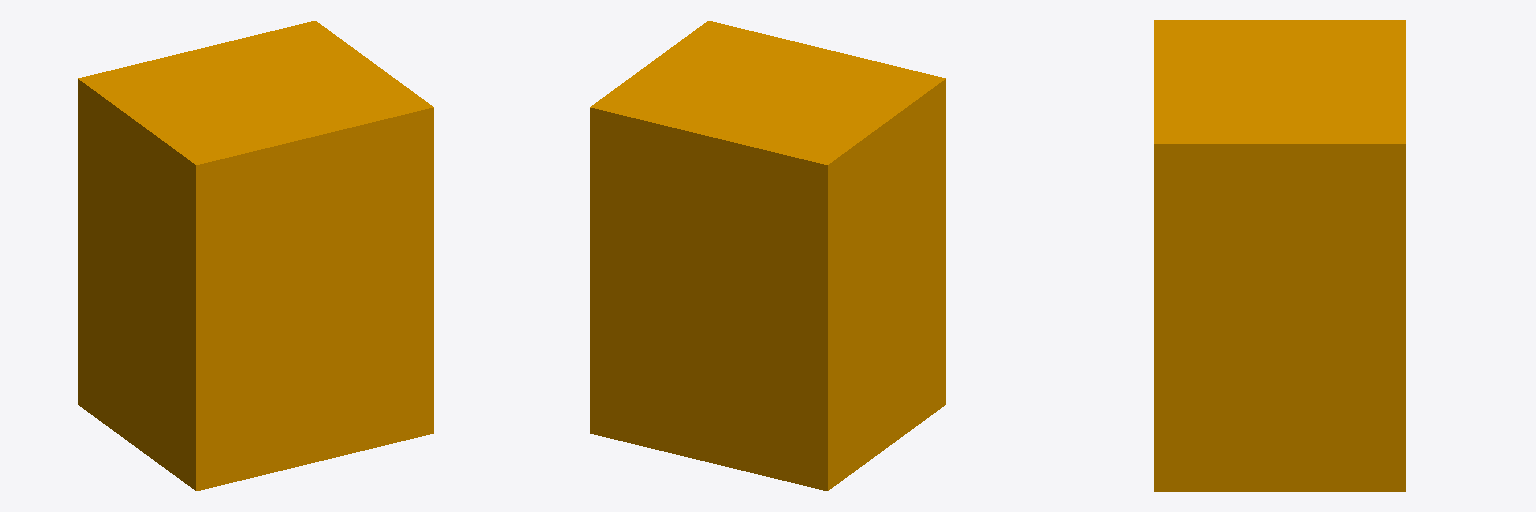
URDF robot description (box_2):
<robot name="box_2">
        <link name="base">
            <inertial>
                <mass value="0.2"/>
                <inertia ixx="0.0001" ixy="0" ixz="0" iyy="0.0001" iyz="0" izz="0.0001"/>
            </inertial>
            <visual>
                <geometry><mesh filename="box_2.obj" scale="1 1 1"/></geometry>
            </visual>
            <collision>
                <geometry><box size="0.02930581014519524 0.025320276601668197 0.0384022920830933"/></geometry>
            </collision>
        </link></robot>

--- Facts derived from the render (not from the file) ---
Views: 3 orthographic renders of the robot side by side, from view 1: azimuth 30°, elevation 25°; view 2: azimuth 150°, elevation 25°; view 3: azimuth 270°, elevation 25°.
Model box_2 with 1 links and 0 joints (none), rooted at base, posed every joint at zero.
Visible links, largest first — view 1: base; view 2: base; view 3: base.
Boxes of the visible links, bbox=[...] form: base: bbox=[78, 21, 433, 490]; base: bbox=[590, 21, 945, 490]; base: bbox=[1154, 20, 1405, 491].
Bounding box of the posed robot: 0.0293 × 0.0253 × 0.0384 m (x, y, z).
Meshes: 1 distinct files referenced, 1 mesh visuals loaded (1 OBJ).
